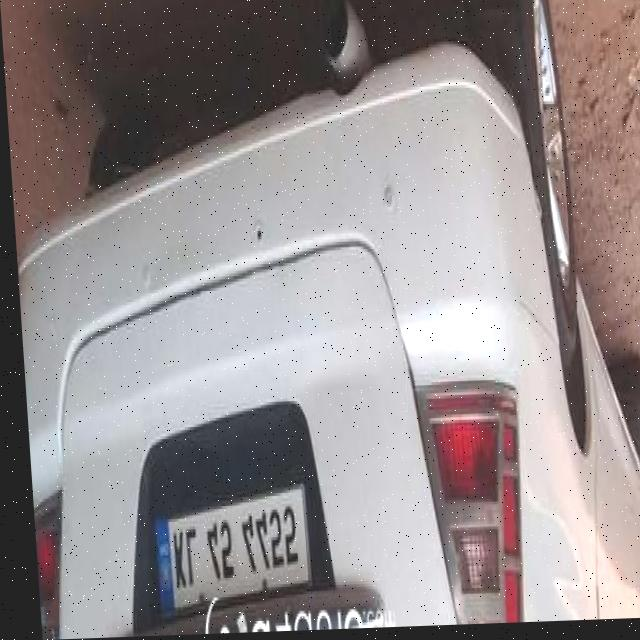plate: (147, 481, 306, 620)
